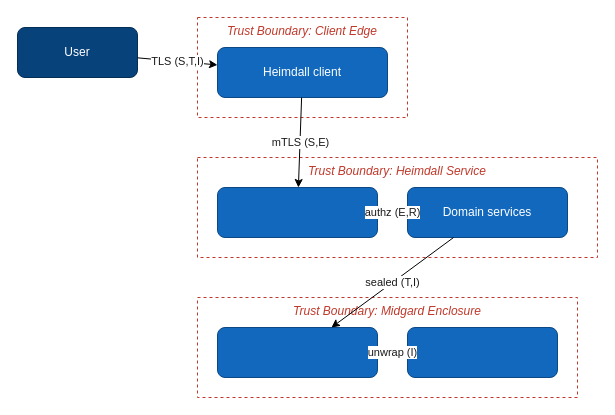
The diagram is 615 pixels wide and 415 high, and some of its shapes have lost their labels. Here are the shapes that lost their labels. From the top down, the box of each, then its label:
(216, 186, 378, 238): Heimdall API
(216, 326, 378, 378): Object fabric
(406, 326, 558, 378): Seal (PQ keys)
